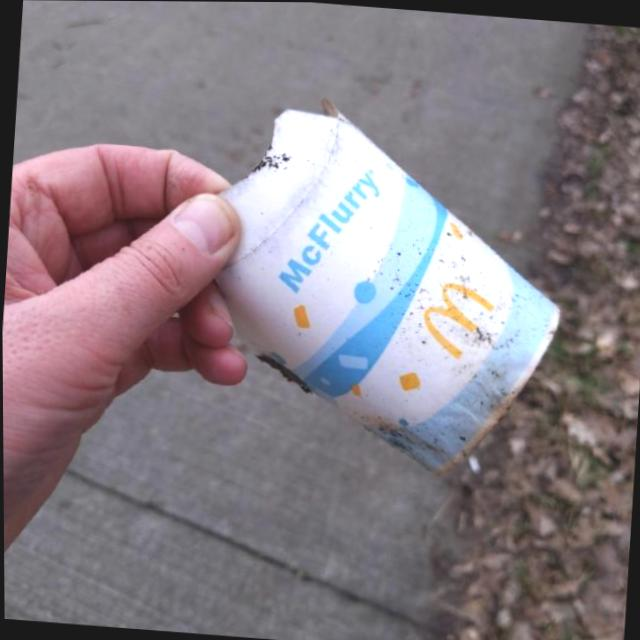Paper: (189, 82, 575, 487)
